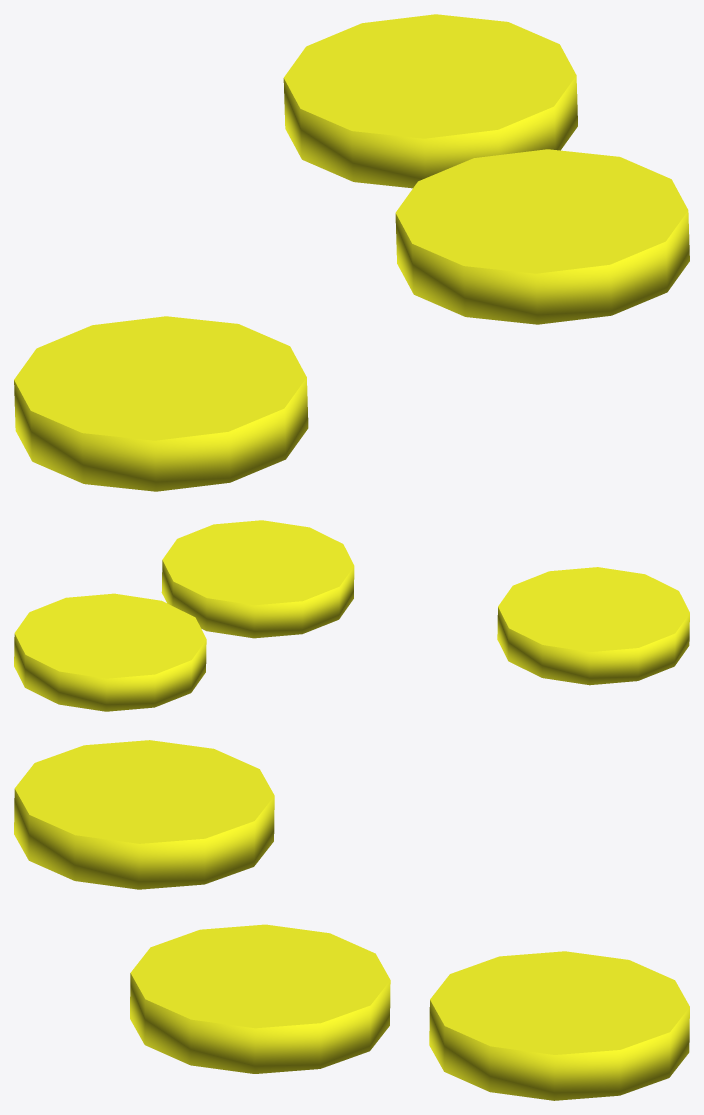
The model's file is Coins.obj.
3 views of the same model, one above another, from view 1: azimuth 30°, elevation 25°; view 2: azimuth 150°, elevation 25°; view 3: azimuth 270°, elevation 25° (orthographic). The views are drawn at different scales.
Parts seen in each view (by area): view 1: coins_1.001_Circle.021; view 2: coins_1.001_Circle.021; view 3: coins_1.001_Circle.021.
Boxes of the visible parts, left/top/right/bottom form: coins_1.001_Circle.021: left=14, top=14, right=689, bottom=491; coins_1.001_Circle.021: left=14, top=520, right=689, bottom=711; coins_1.001_Circle.021: left=14, top=740, right=689, bottom=1100.
Size of the model in its own units: 1.02 by 0.0887 by 0.8911.
